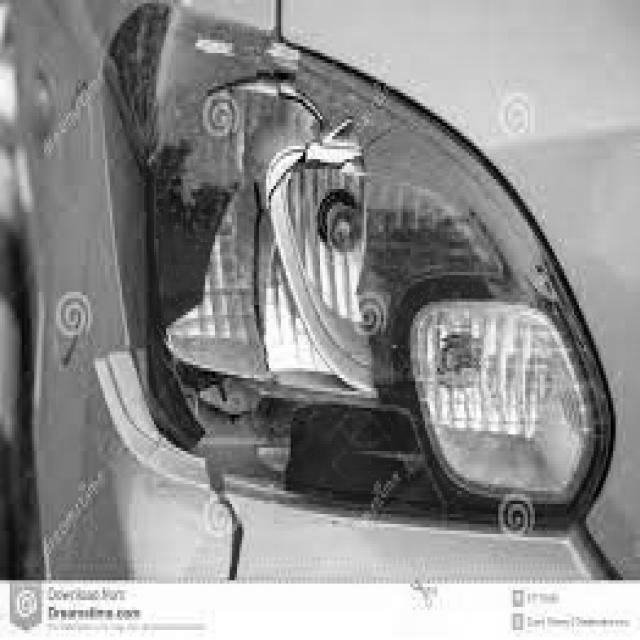Taillight-Damage: (69, 7, 628, 577)
